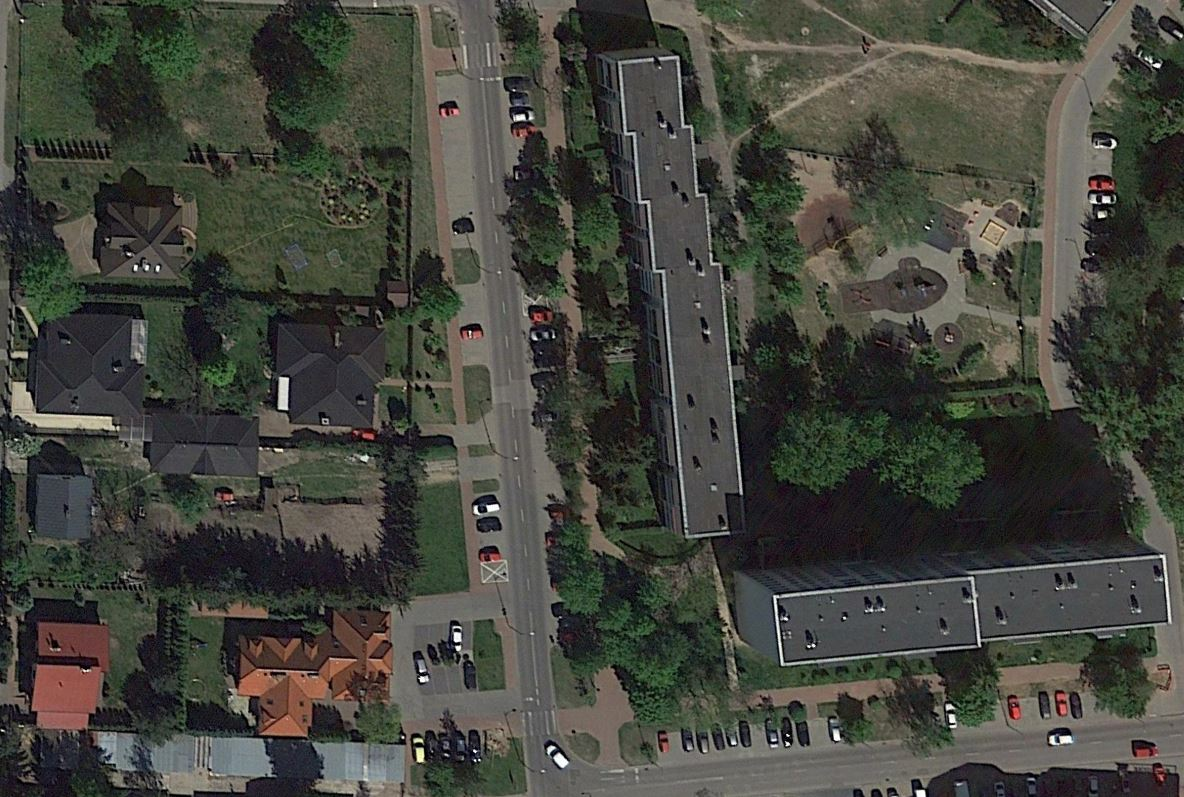block of flats: (576, 27, 764, 545), (709, 521, 1184, 675)
family house: (228, 601, 414, 753), (261, 303, 419, 447), (23, 305, 161, 434), (25, 599, 127, 743), (92, 188, 213, 295), (147, 408, 271, 493), (26, 461, 113, 551)
